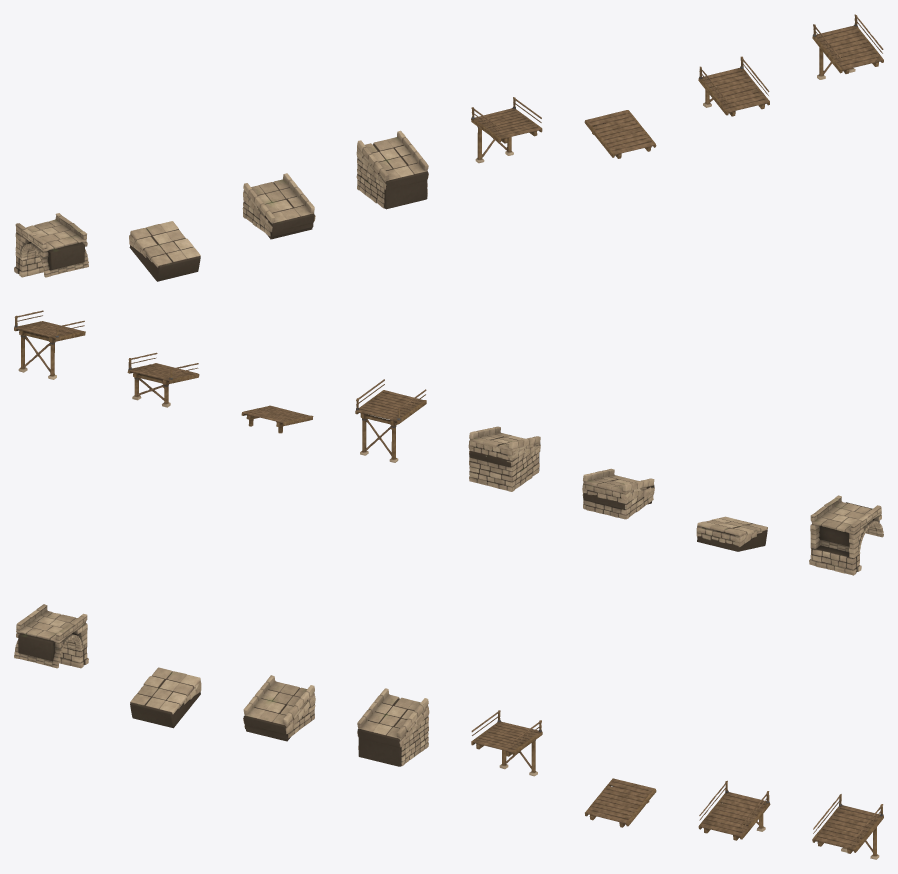
The model's file is decks.glb.
3 views of the same model, one above another, from view 1: azimuth 30°, elevation 25°; view 2: azimuth 150°, elevation 25°; view 3: azimuth 330°, elevation 25° (orthographic).
Parts seen in each view (by area): view 1: deck_stone_r2, deck_stone, deck_stone_r1, deck_stone_r0, deck_wood_r2, deck_wood_r1, deck_wood_r0, deck_wood; view 2: deck_stone, deck_stone_r2, deck_stone_r1, deck_wood, deck_stone_r0, deck_wood_r2, deck_wood_r1, deck_wood_r0; view 3: deck_stone_r2, deck_stone, deck_stone_r1, deck_stone_r0, deck_wood_r2, deck_wood_r1, deck_wood_r0, deck_wood.
Boxes of the visible parts, x1,y1,x2,y2 form: deck_stone_r2: (356, 130, 428, 209); deck_stone: (14, 213, 88, 277); deck_stone_r1: (242, 173, 315, 239); deck_stone_r0: (129, 221, 200, 281); deck_wood_r2: (812, 14, 883, 79); deck_wood_r1: (698, 56, 769, 116); deck_wood_r0: (584, 110, 656, 158); deck_wood: (471, 97, 542, 163); deck_stone: (809, 495, 883, 575); deck_stone_r2: (468, 426, 540, 491); deck_stone_r1: (582, 468, 654, 519); deck_wood: (355, 379, 426, 462); deck_stone_r0: (696, 516, 767, 551); deck_wood_r2: (14, 310, 85, 379); deck_wood_r1: (127, 352, 199, 407); deck_wood_r0: (241, 405, 313, 433); deck_stone_r2: (357, 688, 429, 766); deck_stone: (14, 604, 88, 668); deck_stone_r1: (243, 675, 315, 741); deck_stone_r0: (130, 667, 201, 728); deck_wood_r2: (812, 794, 883, 859); deck_wood_r1: (698, 780, 770, 840); deck_wood_r0: (585, 778, 656, 827); deck_wood: (471, 710, 542, 776).
Bounding box in the file's own units: 44.34 × 3.66 × 2.91.
1 material, 1 textured.
